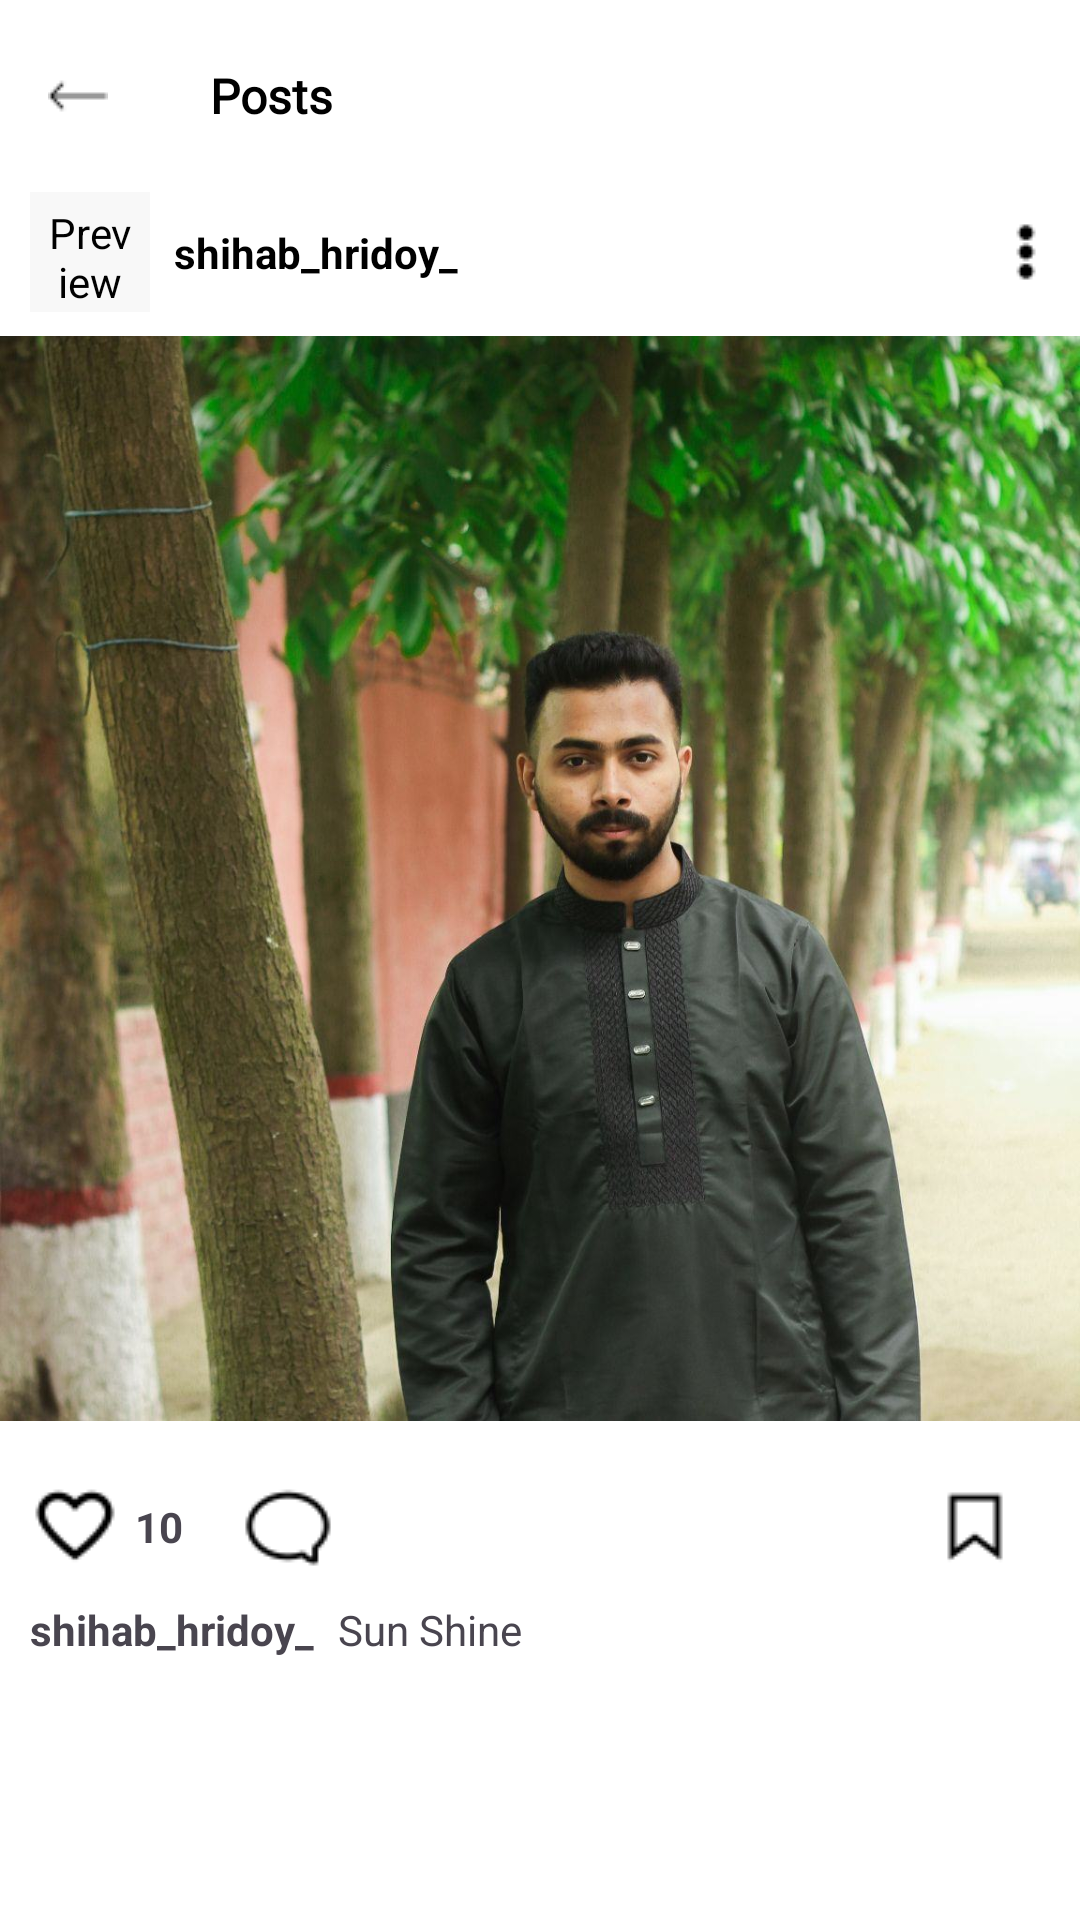

Point at icon controls on the screen. Image size 1080w x 1920h, points as (x=x, y=y).
back arrow: (x=78, y=96)
menu: (x=1026, y=252)
save: (x=975, y=1526)
